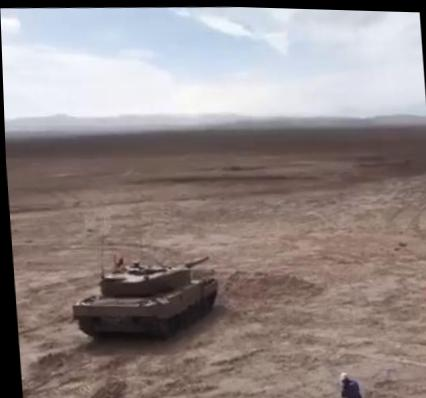tank: (65, 249, 222, 345)
